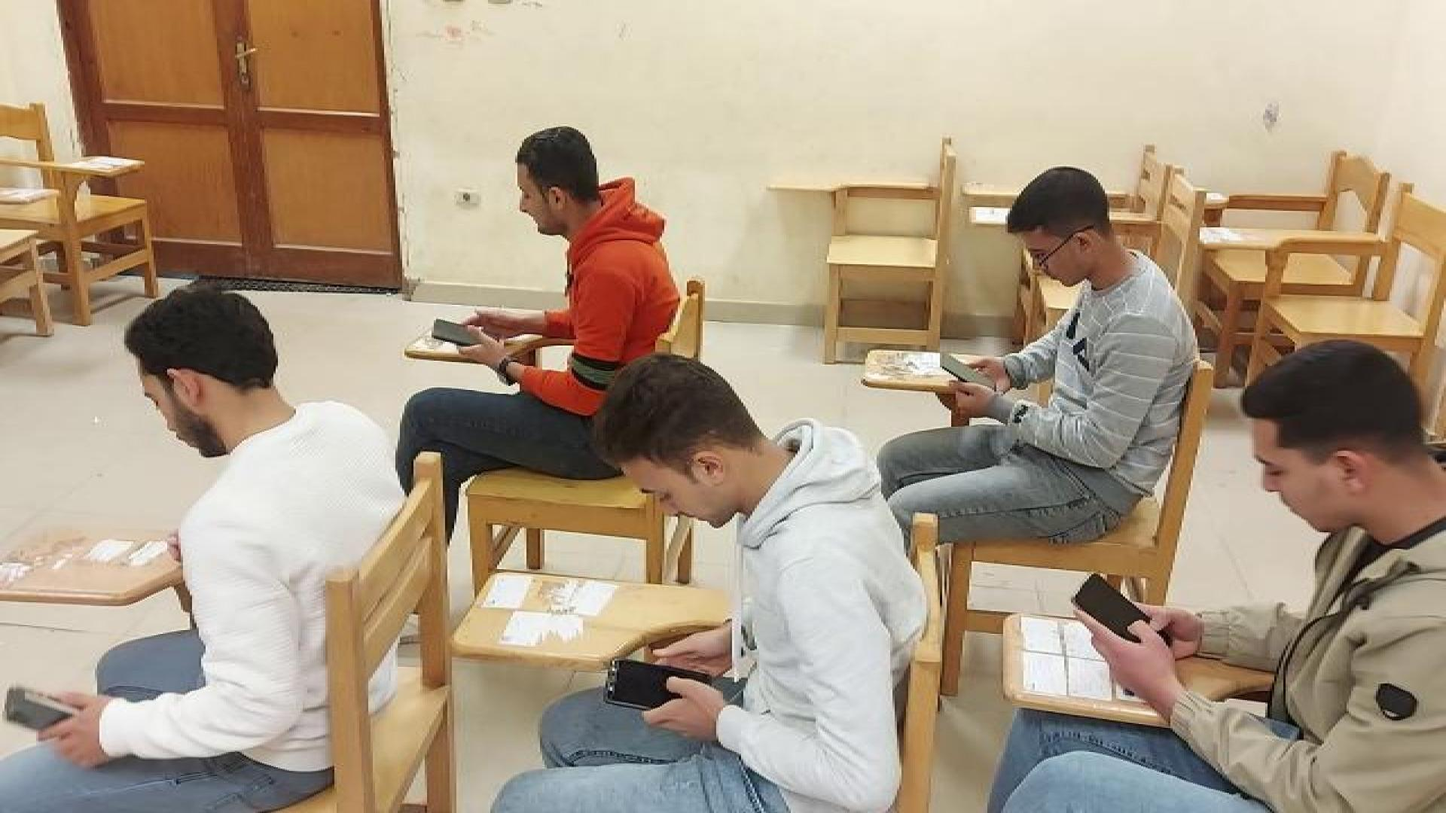phone: (1072, 568, 1181, 646), (606, 657, 723, 710), (6, 685, 85, 740), (937, 346, 1007, 391), (433, 315, 500, 353)
